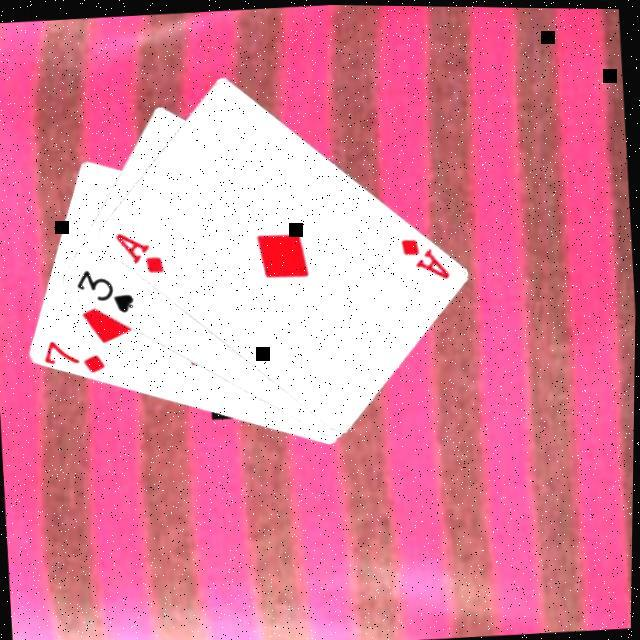3S: (70, 263, 136, 320)
7D: (39, 334, 109, 380)
AD: (109, 226, 167, 280), (396, 231, 452, 285)
